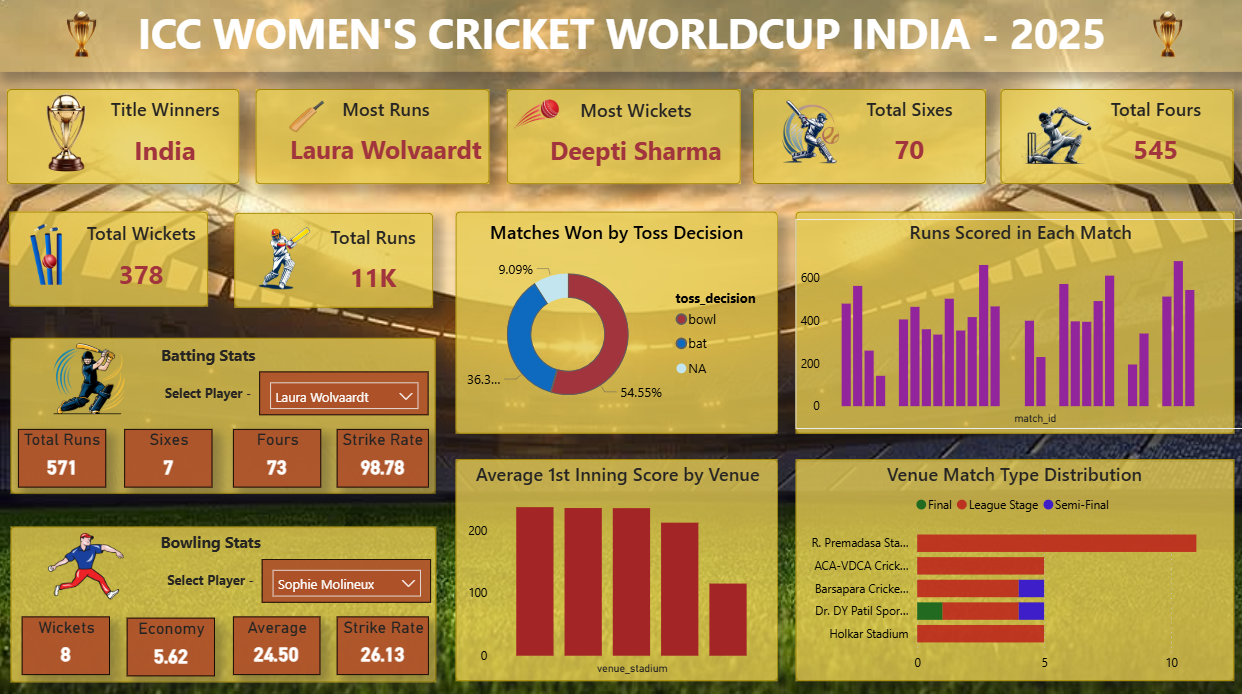

Layout of this report page (visuals, bound fields, positions):
{"tool":"powerbi","page":{"name":"Page 1","canvas":[1280,720],"ordinal":0},"visuals":[{"type":"textbox","box":[0,0,1279.5,74.4],"z":0},{"type":"image","box":[1171.8,0,55.1,71.8],"z":1000},{"type":"image","box":[57.7,0,55.1,71.8],"z":2000},{"type":"shape","box":[9.3,92,238.7,97.3],"z":3000},{"type":"card","title":"Title Winners","fields":{"Values":["public match_records.Title Winner"]},"box":[84.5,100.1,173.7,86.9],"z":4000},{"type":"shape","box":[264.2,92.9,240.1,97.7],"z":5000},{"type":"shape","box":[521.2,92.9,240.1,97.7],"z":6000},{"type":"shape","box":[774,92.2,239,97.4],"z":7000},{"type":"shape","box":[1028.6,92.2,239,97.4],"z":8000},{"type":"card","title":"Most Runs","fields":{"Values":["public batting_record.player"]},"box":[271.4,100.1,252.1,85.7],"z":9000},{"type":"card","title":"Total Fours","fields":{"Values":["public batting_record.fours"]},"box":[1101.5,100.1,172.5,85.7],"z":10000},{"type":"card","title":"Total Sixes","fields":{"Values":["public batting_record.sixes"]},"box":[846.9,100.1,174.9,85.7],"z":11000},{"type":"card","title":"Most Wickets","fields":{"Values":["public bowling_record.player"]},"box":[538.1,101.3,231.6,85.7],"z":12000},{"type":"shape","box":[242.7,218.7,204,97.3],"z":13000},{"type":"shape","box":[12,217.3,204,97.3],"z":14000},{"type":"card","title":"Total Runs","fields":{"Values":["public match_records.Total_Runs"]},"box":[316.1,230.4,136.3,86.9],"z":15000},{"type":"card","title":"Total Wickets","fields":{"Values":["public match_records.Total_Wickets"]},"box":[78.4,226.8,137.5,86.9],"z":16000},{"type":"shape","box":[13.3,348,436,160],"z":17000},{"type":"slicer","fields":{"Values":["public batting_record.player"]},"box":[268.1,382.5,173.7,44.6],"z":18000},{"type":"card","title":"Total Runs","fields":{"Values":["public batting_record.runs"]},"box":[20.8,440.4,90.5,60.3],"z":19000},{"type":"card","title":"Sixes","fields":{"Values":["public batting_record.sixes"]},"box":[129.4,440.4,90.5,60.3],"z":20000},{"type":"card","title":"Fours","fields":{"Values":["public batting_record.fours"]},"box":[240.4,440.4,90.5,60.3],"z":21000},{"type":"card","title":"Strike Rate","fields":{"Values":["public batting_record.strike_rate"]},"box":[347.8,440.4,94.1,60.3],"z":22000},{"type":"textbox","box":[145.1,348.7,141.2,32.6],"z":23000},{"type":"textbox","box":[145.1,389.8,141.2,33.8],"z":24000},{"type":"shape","box":[12.7,540.6,436.7,160],"z":25000},{"type":"slicer","fields":{"Values":["public bowling_record.player"]},"box":[270.9,574.4,173.7,44.6],"z":26000},{"type":"textbox","box":[147.8,540.6,141.2,32.6],"z":27000},{"type":"textbox","box":[147.8,581.6,141.2,33.8],"z":28000},{"type":"card","title":"Wickets","fields":{"Values":["public bowling_record.wickets"]},"box":[23.9,632.9,90.5,60.3],"z":29000},{"type":"card","title":"Economy","fields":{"Values":["public bowling_record.economy"]},"box":[132.5,634.1,90.5,60.3],"z":30000},{"type":"card","title":"Average","fields":{"Values":["public bowling_record.Average"]},"box":[241.3,633.3,89.3,60],"z":31000},{"type":"card","title":"Strike Rate","fields":{"Values":["public bowling_record.Bowling Strike rate"]},"box":[348,633.3,94.7,60],"z":32000},{"type":"shape","box":[469.3,217.3,330.7,228],"z":33000},{"type":"shape","box":[469.3,472,330.7,228],"z":34000},{"type":"donutChart","title":"Matches Won by Toss Decision","fields":{"Y":["public match_records.Matches Won by toss Decision"],"Category":["public match_records.toss_decision"]},"box":[469.3,225.3,330.7,212],"z":35000},{"type":"shape","box":[818,471.7,450,228],"z":36000},{"type":"shape","box":[818,218.4,450,228],"z":37000},{"type":"columnChart","title":"Runs Scored in Each Match","fields":{"Category":["public match_records.match_id"],"Y":["public match_records.Total_Runs"]},"box":[818,225.6,462.1,216],"z":38000},{"type":"barChart","title":"Venue Match Type Distribution","fields":{"Category":["public match_records.venue_stadium"],"Y":["public match_records.match_id"],"Series":["public match_records.match_type"]},"box":[818.5,474.1,449.4,224.7],"z":39000},{"type":"columnChart","title":"Average 1st Inning Score by Venue","fields":{"Category":["public match_records.venue_stadium"],"Y":["public match_records.first_score"]},"box":[476.5,474.1,317.3,223.2],"z":40000},{"type":"image","box":[10.9,92.9,120.6,88.1],"z":41000},{"type":"image","box":[26.5,346.2,132.7,86.9],"z":42000},{"type":"image","box":[51.9,546.5,77.2,71.2],"z":43000},{"type":"image","box":[1049.6,90.5,73.6,98.9],"z":44000},{"type":"image","box":[785.4,101.3,95.3,71.2],"z":45000},{"type":"image","box":[1.2,228,100.1,65.1],"z":46000},{"type":"image","box":[241.3,217.2,97.7,90.5],"z":47000},{"type":"image","box":[523.6,91.7,59.1,53.1],"z":48000},{"type":"image","box":[294.4,101.3,43.4,38.6],"z":49000}]}

Visuals, with their boxes in screenshot pixels (x1, y1, x2, y2), scaled from the page's 1280x720 canvas onto the 1242x694 screenshot:
textbox: x1=0 y1=0 x2=1241 y2=72
image: x1=1137 y1=0 x2=1190 y2=69
image: x1=56 y1=0 x2=109 y2=69
shape: x1=9 y1=89 x2=241 y2=182
"Title Winners" card: x1=82 y1=96 x2=251 y2=180
shape: x1=256 y1=90 x2=489 y2=184
shape: x1=506 y1=90 x2=739 y2=184
shape: x1=751 y1=89 x2=983 y2=183
shape: x1=998 y1=89 x2=1230 y2=183
"Most Runs" card: x1=263 y1=96 x2=508 y2=179
"Total Fours" card: x1=1069 y1=96 x2=1236 y2=179
"Total Sixes" card: x1=822 y1=96 x2=991 y2=179
"Most Wickets" card: x1=522 y1=98 x2=747 y2=180
shape: x1=235 y1=211 x2=433 y2=305
shape: x1=12 y1=209 x2=210 y2=303
"Total Runs" card: x1=307 y1=222 x2=439 y2=306
"Total Wickets" card: x1=76 y1=219 x2=209 y2=302
shape: x1=13 y1=335 x2=436 y2=490
slicer - public batting_record.player: x1=260 y1=369 x2=429 y2=412
"Total Runs" card: x1=20 y1=424 x2=108 y2=483
"Sixes" card: x1=126 y1=424 x2=213 y2=483
"Fours" card: x1=233 y1=424 x2=321 y2=483
"Strike Rate" card: x1=337 y1=424 x2=429 y2=483
textbox: x1=141 y1=336 x2=278 y2=368
textbox: x1=141 y1=376 x2=278 y2=408
shape: x1=12 y1=521 x2=436 y2=675
slicer - public bowling_record.player: x1=263 y1=554 x2=431 y2=597
textbox: x1=143 y1=521 x2=280 y2=553
textbox: x1=143 y1=561 x2=280 y2=593
"Wickets" card: x1=23 y1=610 x2=111 y2=668
"Economy" card: x1=129 y1=611 x2=216 y2=669
"Average" card: x1=234 y1=610 x2=321 y2=668
"Strike Rate" card: x1=338 y1=610 x2=430 y2=668
shape: x1=455 y1=209 x2=776 y2=429
shape: x1=455 y1=455 x2=776 y2=675
"Matches Won by Toss Decision" donutChart: x1=455 y1=217 x2=776 y2=422
shape: x1=794 y1=455 x2=1230 y2=674
shape: x1=794 y1=211 x2=1230 y2=430
"Runs Scored in Each Match" columnChart: x1=794 y1=217 x2=1241 y2=426
"Venue Match Type Distribution" barChart: x1=794 y1=457 x2=1230 y2=674
"Average 1st Inning Score by Venue" columnChart: x1=462 y1=457 x2=770 y2=672
image: x1=11 y1=90 x2=128 y2=174
image: x1=26 y1=334 x2=154 y2=417
image: x1=50 y1=527 x2=125 y2=595
image: x1=1018 y1=87 x2=1090 y2=183
image: x1=762 y1=98 x2=855 y2=166
image: x1=1 y1=220 x2=98 y2=283
image: x1=234 y1=209 x2=329 y2=297
image: x1=508 y1=88 x2=565 y2=140
image: x1=286 y1=98 x2=328 y2=135
